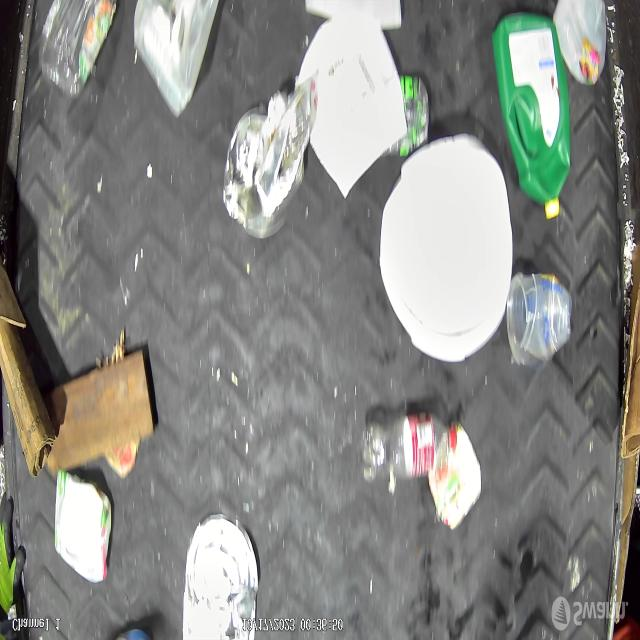can: (182, 513, 259, 640)
milk_jug: (134, 0, 216, 117), (552, 0, 608, 86)
non_white_jug: (493, 12, 571, 218)
plastic_bottle: (361, 406, 449, 489)
